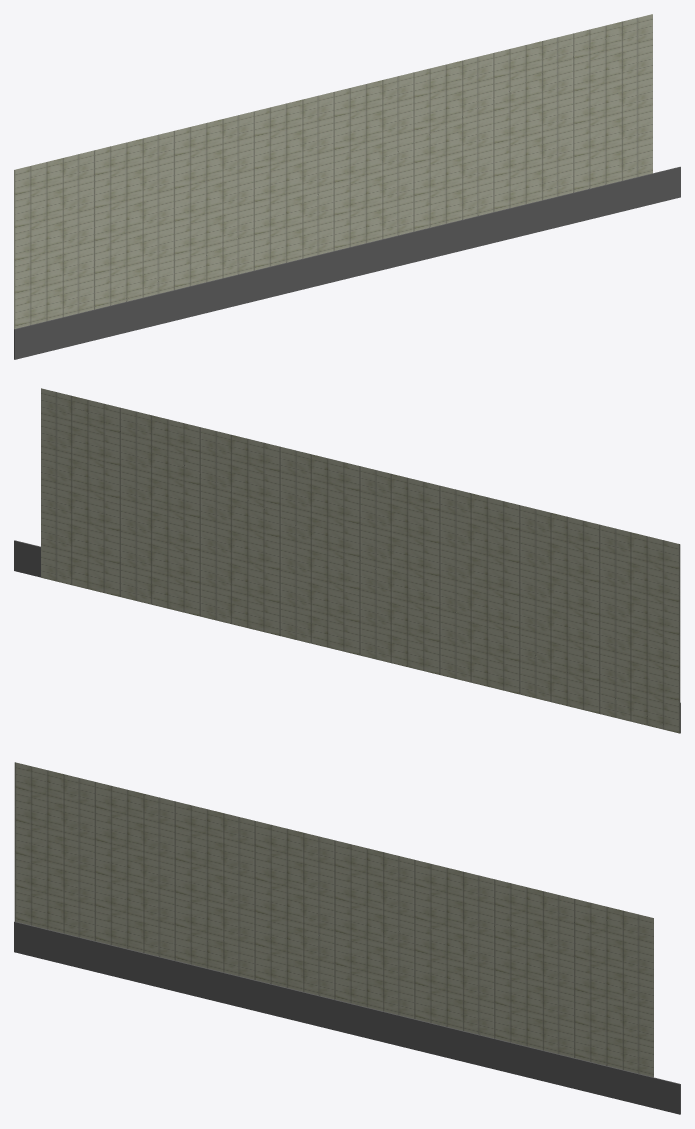
The model's file is frontWall.fbx.
3 renders of one model, top to bottom at view 1: azimuth 30°, elevation 25°; view 2: azimuth 150°, elevation 25°; view 3: azimuth 330°, elevation 25°, orthographic.
Parts seen in each view (by area): view 1: pPlane2, pCube30; view 2: pPlane2, pCube30; view 3: pPlane2, pCube30.
Boxes of the visible parts, left/top/right/bottom form: pPlane2: left=14, top=14, right=652, bottom=328; pCube30: left=14, top=166, right=680, bottom=359; pPlane2: left=41, top=388, right=680, bottom=733; pCube30: left=14, top=540, right=680, bottom=733; pPlane2: left=14, top=762, right=653, bottom=1077; pCube30: left=14, top=921, right=680, bottom=1114.
Bounding box in the file's own units: 475 × 129 × 0.9626.
Materials: 2 (1 with a texture image).
